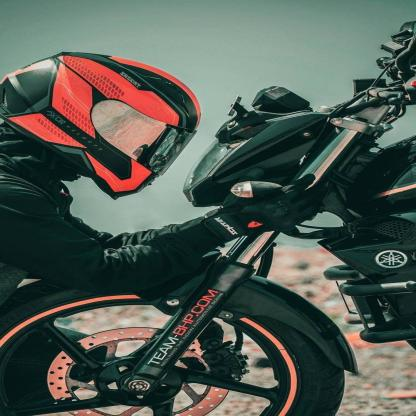bike: (0, 79, 416, 416)
